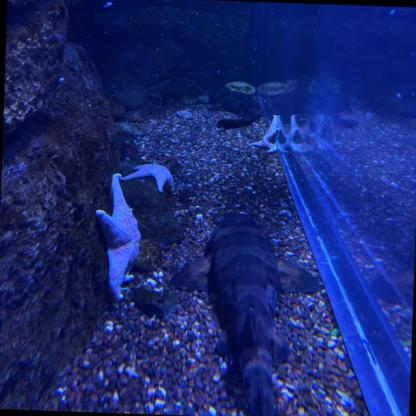shark: (173, 207, 318, 415)
starfish: (93, 178, 143, 302), (121, 160, 184, 193), (248, 114, 284, 154)
